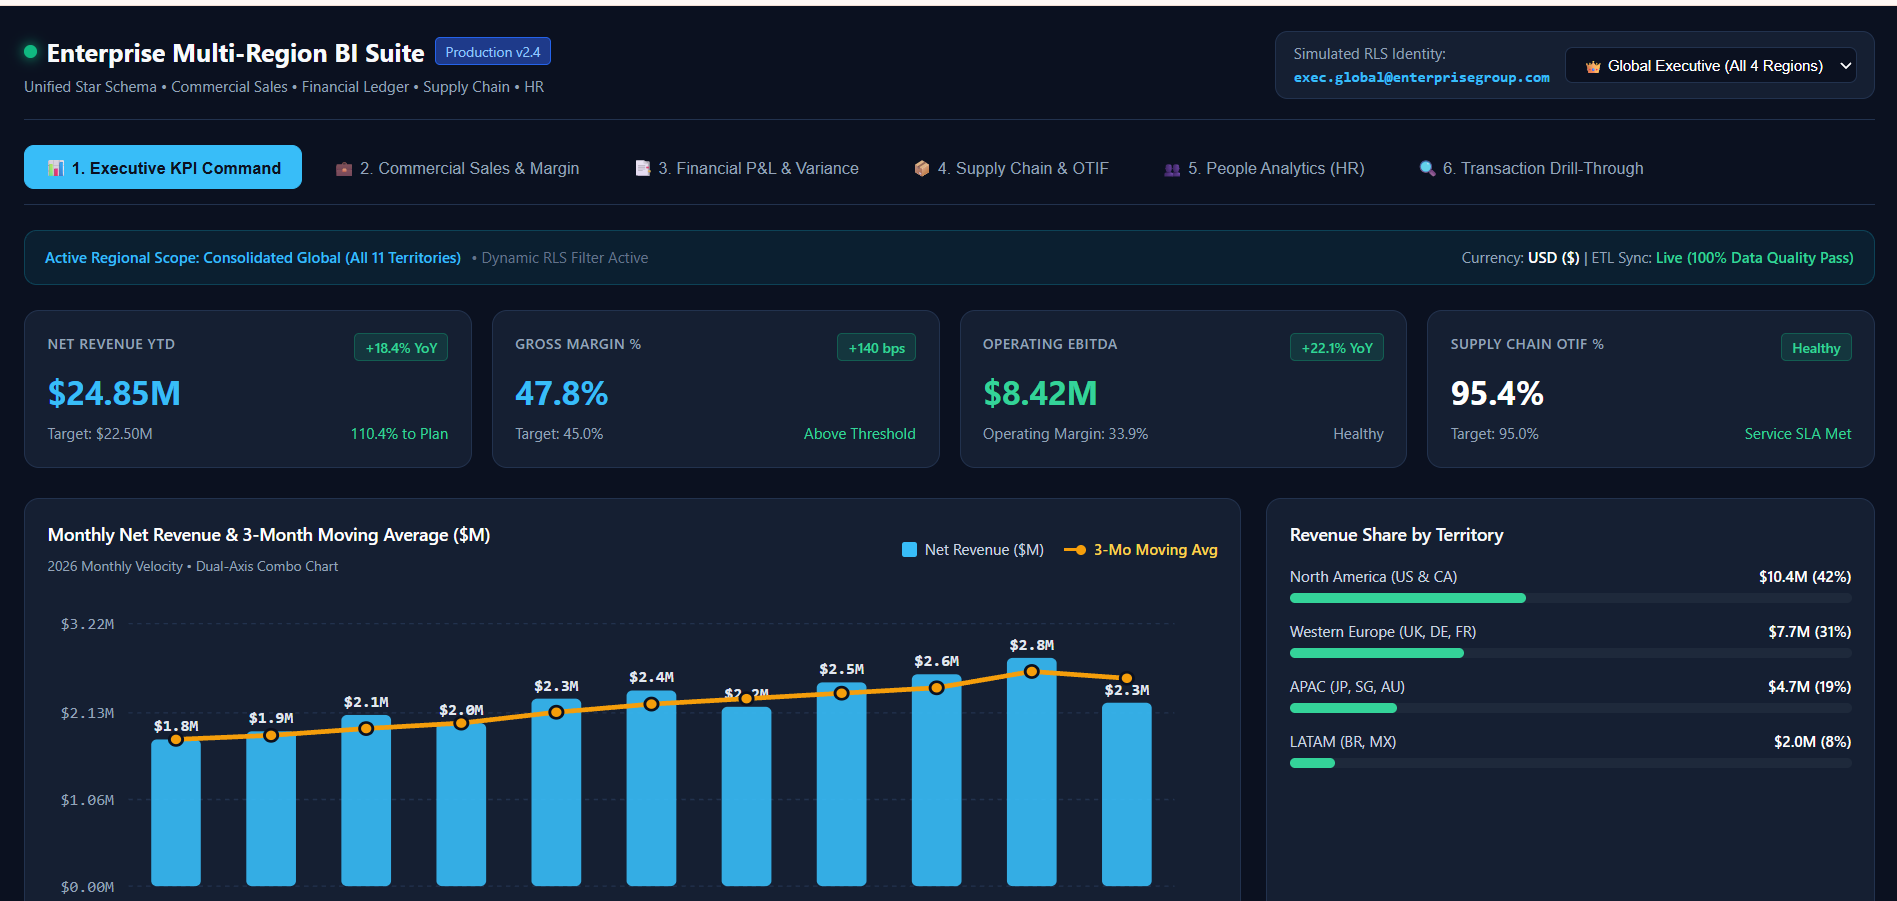

Layout of this report page (visuals, bound fields, positions):
{"tool":"powerbi","page":{"name":"Executive KPI Command","canvas":[1920,1080],"ordinal":0},"visuals":[{"type":"textbox","box":[10.3,0,576.3,57.6],"z":0},{"type":"textbox","box":[10.3,57.6,576.3,49.4],"z":1},{"type":"pageNavigator","box":[10,156,1858,196],"z":2},{"type":"kpi","fields":{"Indicator":["Fact_Sales.Net Revenue YTD"],"TrendLine":["Dim_Date.FullDate.Variation.Date Hierarchy.Year"]},"box":[45.2,437.9,363.7,150.2],"z":8},{"type":"kpi","fields":{"Indicator":["Fact_Sales.Operating EBITDA"],"TrendLine":["Dim_Date.FullDate.Variation.Date Hierarchy.Year"]},"box":[1036.9,439.7,363.7,150.2],"z":10},{"type":"kpi","fields":{"Indicator":["Fact_Sales.Gross Margin %"],"TrendLine":["Dim_Date.FullDate.Variation.Date Hierarchy.Year"]},"box":[533.8,437.9,363.7,150.2],"z":11},{"type":"kpi","fields":{"Indicator":["Fact_Sales.Supply Chain OTIF %"],"TrendLine":["Dim_Date.FullDate.Variation.Date Hierarchy.Year"]},"box":[1503.8,439.7,363.7,150.2],"z":12},{"type":"slicer","fields":{"Values":["Dim_Date.FullDate.Variation.Date Hierarchy.Year"]},"box":[331.2,371,566.4,92.3],"z":13},{"type":"lineClusteredColumnComboChart","fields":{"Category":["Dim_Date.MonthName"],"Y":["Fact_Sales.Net Revenue"],"Y2":["Fact_Sales.Revenue 3M Average"]},"box":[54,618,746,440],"z":14},{"type":"clusteredBarChart","title":"Total Share By Territory","fields":{"Category":["Dim_Geography.GlobalRegion"],"Y":["Fact_Sales.Net Revenue"]},"box":[898,618,936,420],"z":15}]}

Visuals, with their boxes on the page's 1920x1080 design canvas (x1, y1, x2, y2). These are canvas units, not pixel positions in the 1897x901 screenshot, which may show the page scaled, cropped or inside an application window:
textbox: left=10, top=0, right=587, bottom=58
textbox: left=10, top=58, right=587, bottom=107
pageNavigator: left=10, top=156, right=1868, bottom=352
kpi - Fact_Sales.Net Revenue YTD x Dim_Date.FullDate.Variation.Date Hierarchy.Year: left=45, top=438, right=409, bottom=588
kpi - Fact_Sales.Operating EBITDA x Dim_Date.FullDate.Variation.Date Hierarchy.Year: left=1037, top=440, right=1401, bottom=590
kpi - Fact_Sales.Gross Margin % x Dim_Date.FullDate.Variation.Date Hierarchy.Year: left=534, top=438, right=898, bottom=588
kpi - Fact_Sales.Supply Chain OTIF % x Dim_Date.FullDate.Variation.Date Hierarchy.Year: left=1504, top=440, right=1868, bottom=590
slicer - Dim_Date.FullDate.Variation.Date Hierarchy.Year: left=331, top=371, right=898, bottom=463
lineClusteredColumnComboChart - Dim_Date.MonthName x Fact_Sales.Net Revenue: left=54, top=618, right=800, bottom=1058
"Total Share By Territory" clusteredBarChart: left=898, top=618, right=1834, bottom=1038
